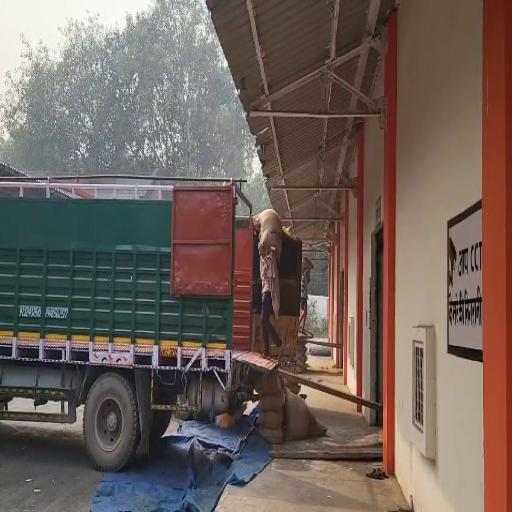bag: (250, 206, 286, 264)
